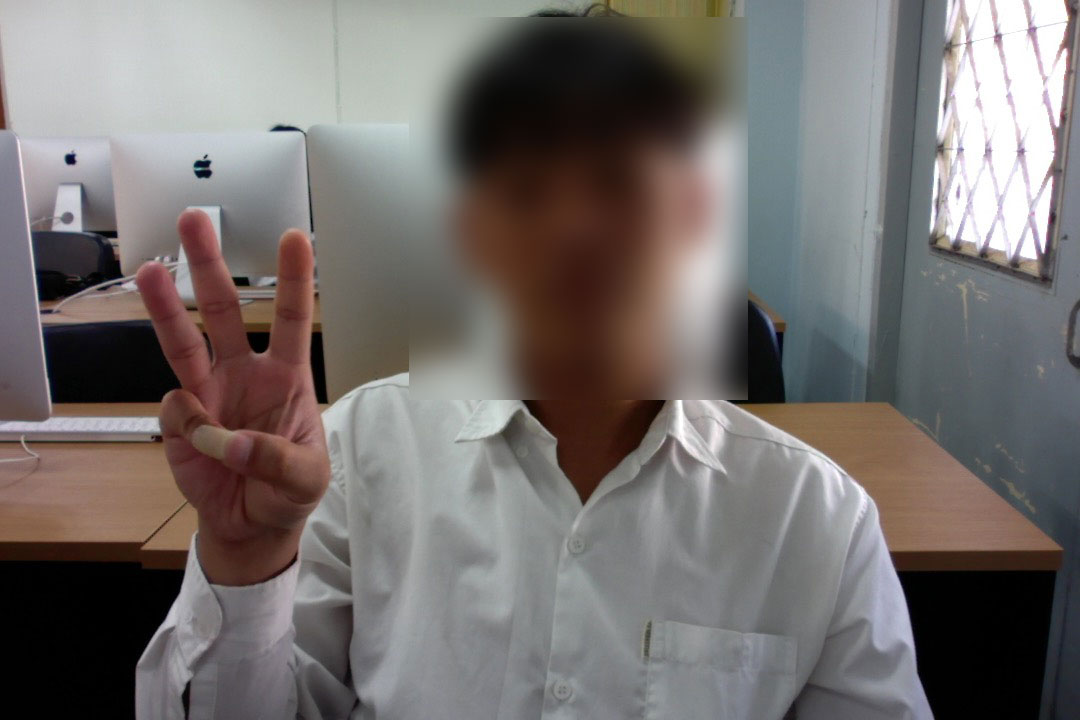wor: (123, 204, 358, 550)
